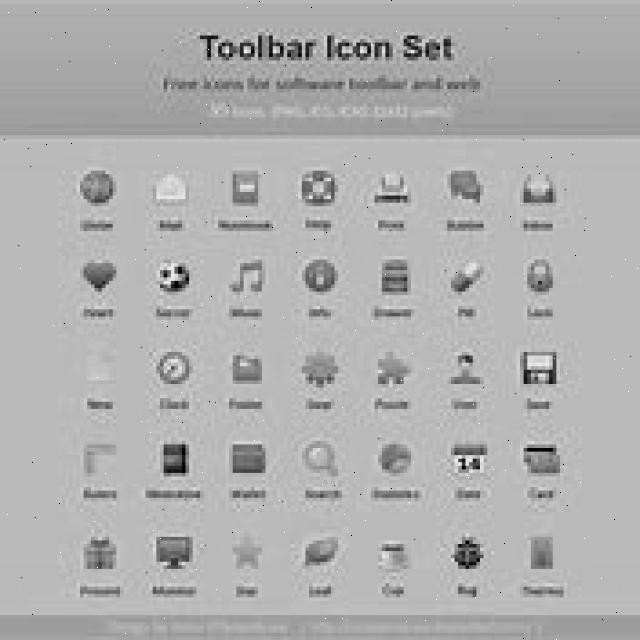icon: (70, 166, 124, 212), (148, 530, 202, 571), (298, 531, 351, 572), (516, 342, 563, 388), (225, 253, 272, 299), (298, 436, 346, 480), (518, 440, 570, 480), (146, 167, 193, 209), (373, 440, 424, 478), (78, 531, 122, 574), (156, 439, 200, 482), (225, 438, 272, 478), (443, 167, 490, 207), (80, 436, 123, 479), (446, 441, 491, 482), (445, 530, 488, 572), (80, 256, 119, 300), (150, 260, 195, 298), (154, 348, 195, 389), (371, 168, 412, 208), (524, 527, 561, 571), (298, 169, 342, 206), (229, 348, 268, 389), (450, 347, 485, 392), (228, 534, 269, 572), (302, 349, 340, 390), (302, 255, 339, 297), (375, 348, 409, 392), (82, 345, 116, 389), (378, 254, 412, 298), (449, 261, 486, 300), (378, 536, 412, 575), (229, 168, 262, 208), (524, 258, 556, 298), (521, 170, 557, 204)
label: (197, 29, 464, 67), (150, 72, 494, 96)
